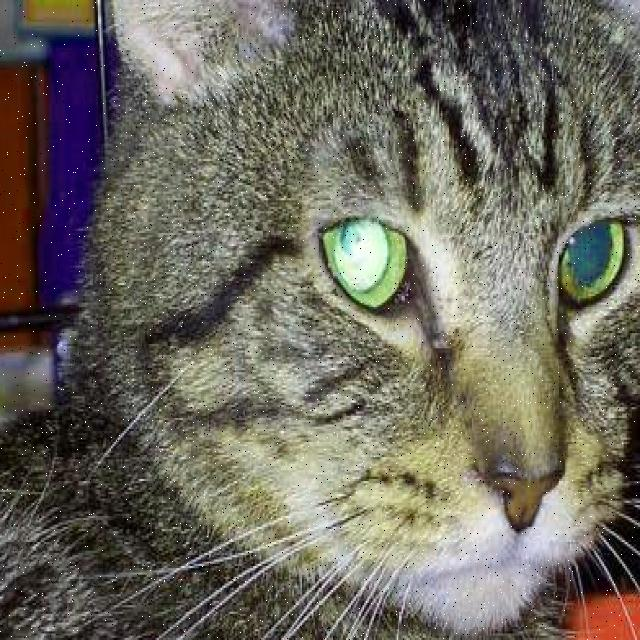Cat: (70, 0, 640, 633)
